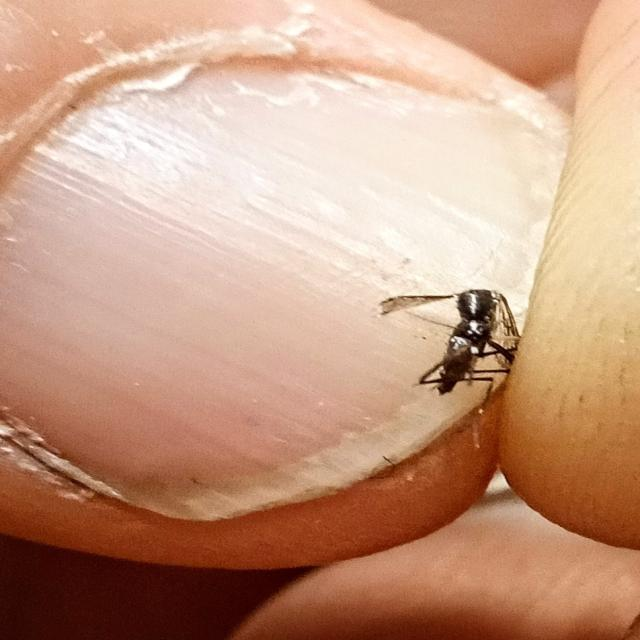albopictus: (377, 284, 522, 411)
